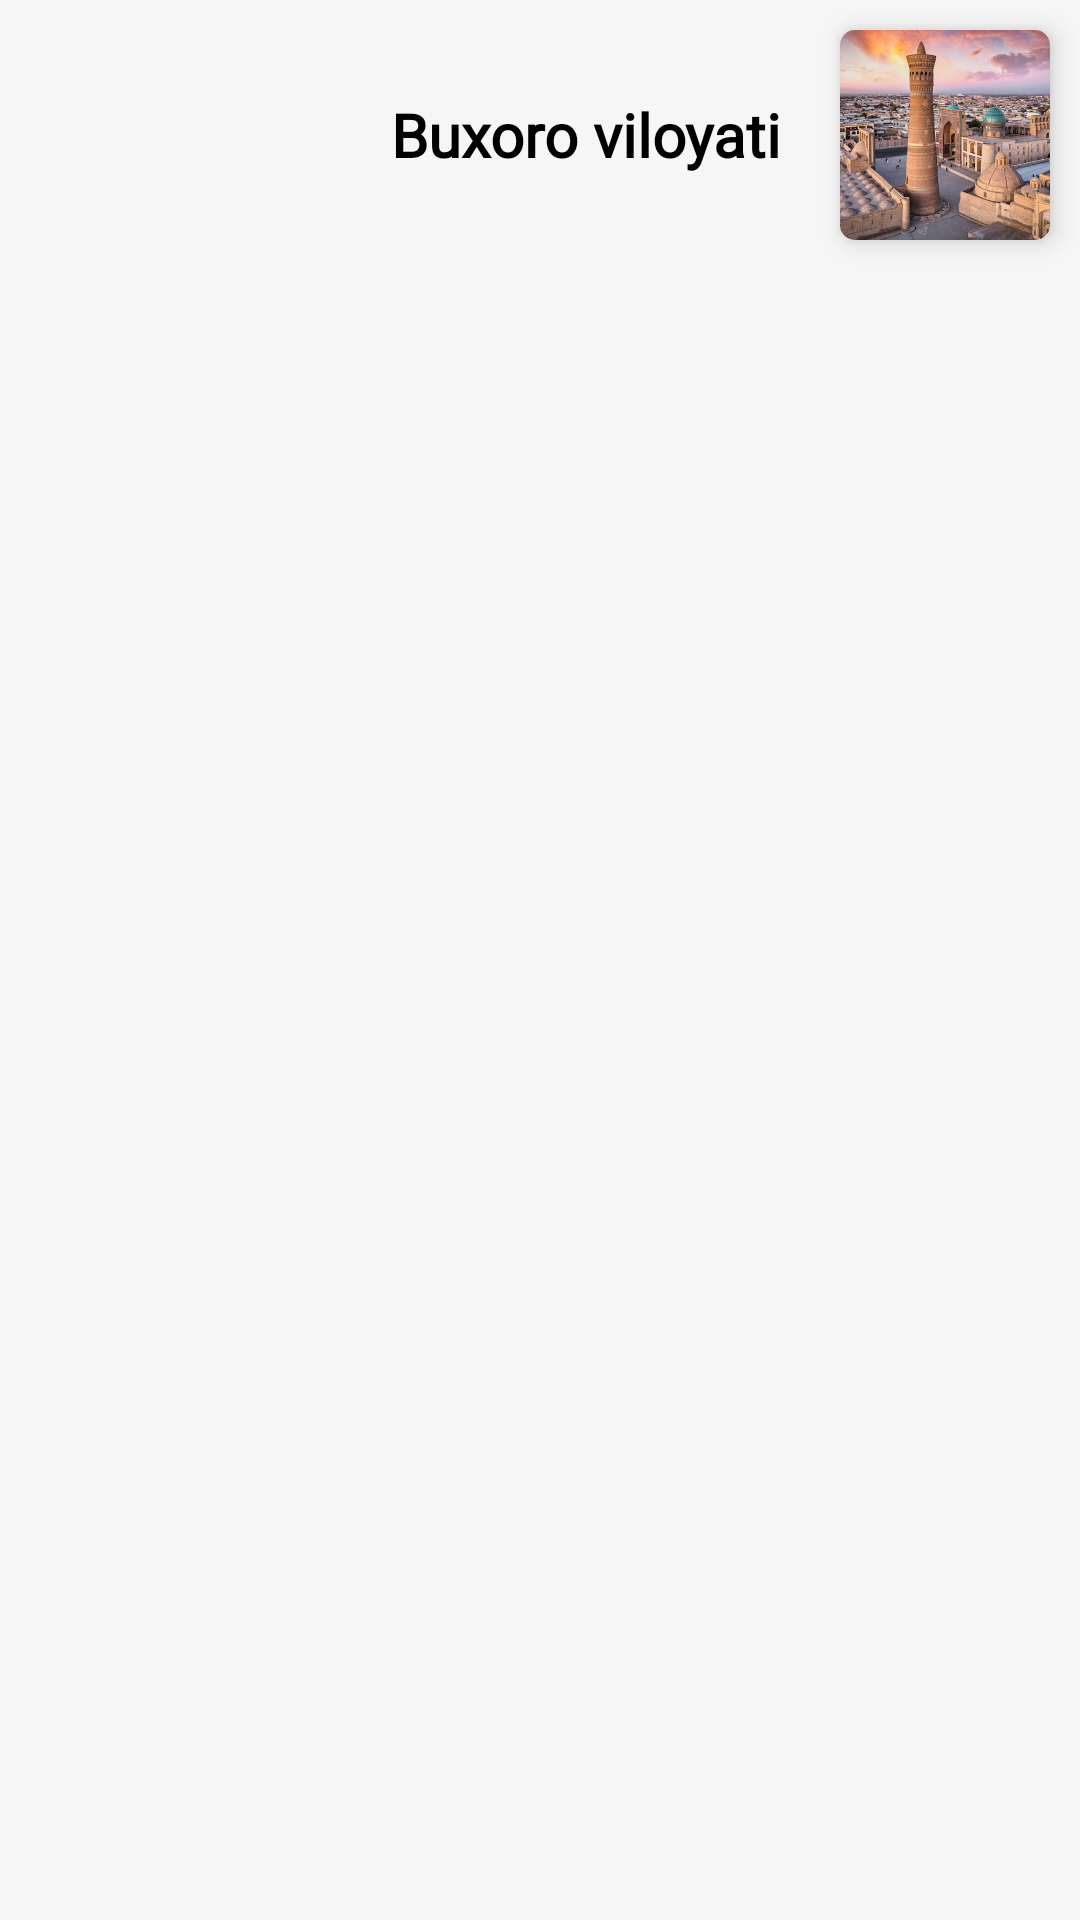

Named icons in this screenshot (1080*1920) and their centers, (x=x, y=y):
bukhara: (x=945, y=135)
